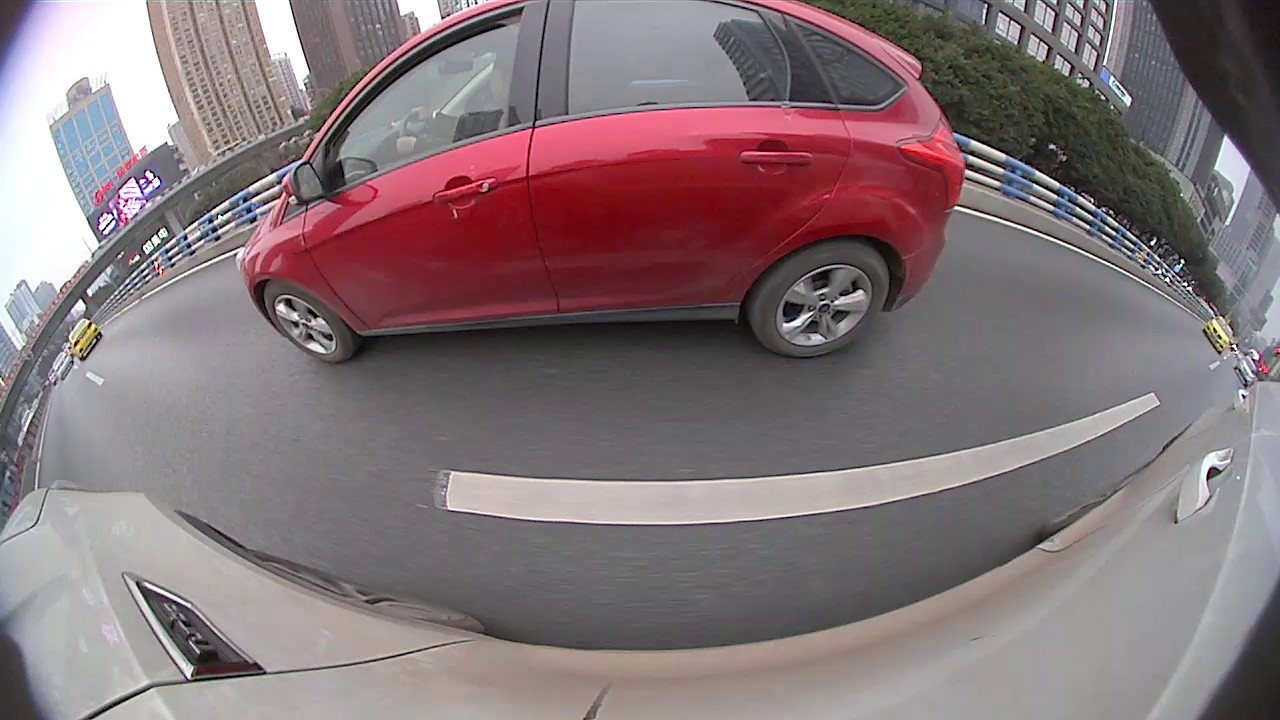car: (996, 204, 1277, 441), (255, 131, 526, 290), (755, 133, 910, 225), (622, 138, 709, 210), (514, 152, 573, 199), (727, 145, 781, 188), (700, 154, 731, 187), (567, 160, 597, 188)
front: (1012, 242, 1062, 301), (510, 184, 525, 222), (752, 173, 767, 201)
person: (953, 184, 965, 215), (937, 181, 948, 213), (968, 184, 976, 220)
rear: (1203, 368, 1272, 443), (411, 208, 449, 272), (797, 180, 819, 215)
